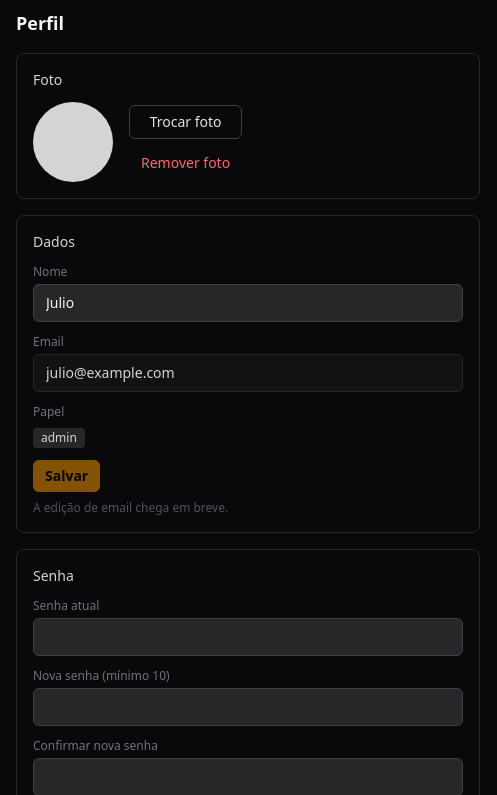
Test: SettingsPage profile › saves an edited name and updates the auth store
Replace the text in the field labelled "Nome" with "Julio B". click: (248, 303)
box: top-left (33, 284), bottom-right (463, 322)
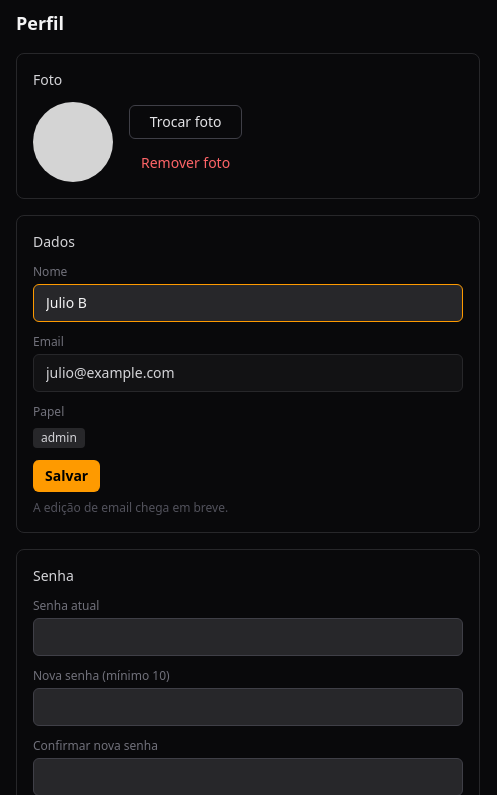
Click the button "Salvar". click: (67, 476)
box: top-left (33, 460), bottom-right (100, 492)
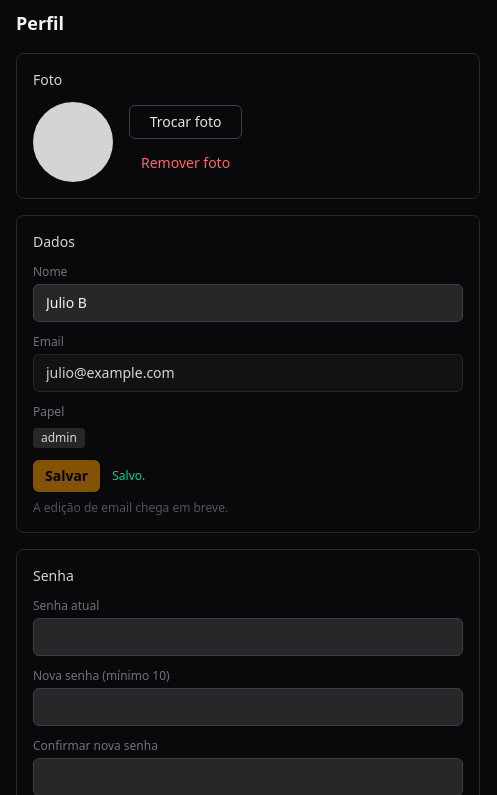
Expected: the text "Salvo." is shown, top-left (112, 468), bottom-right (145, 484)
